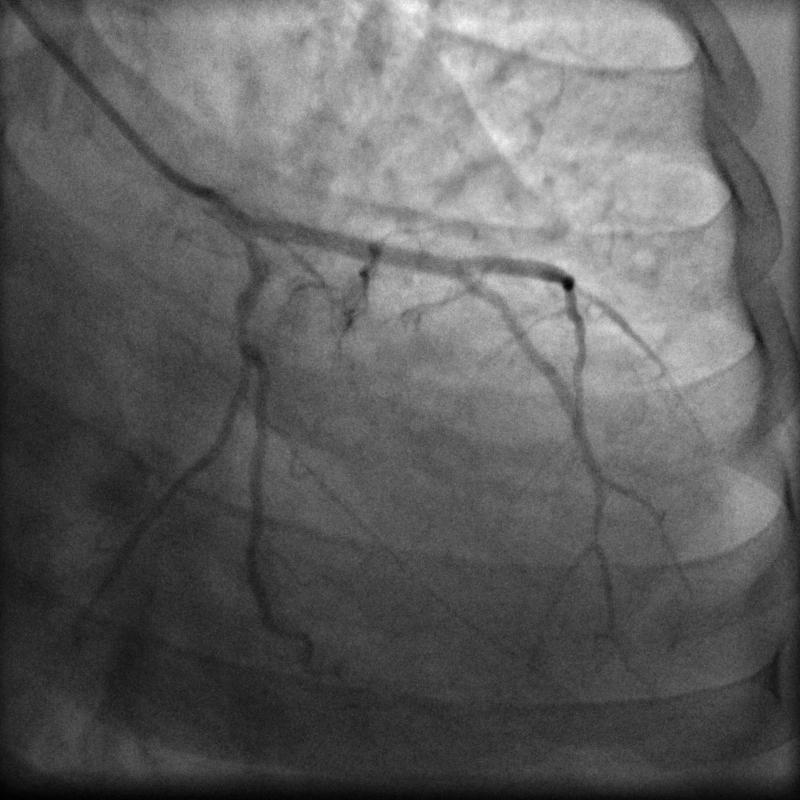Stenosis: (227, 303, 275, 364)
